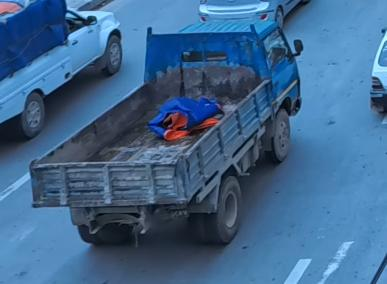mini_truck: (25, 9, 307, 251)
transport_vehicle: (0, 0, 124, 131)
